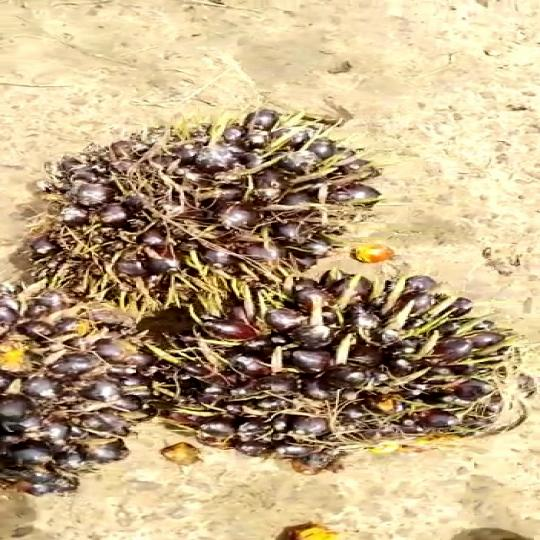mentah: (154, 275, 526, 483), (35, 109, 383, 302), (0, 283, 153, 499)
